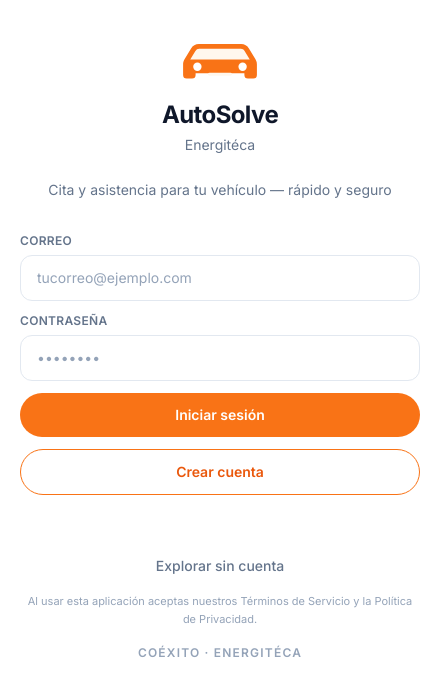
Scenario: LoginPage › muestra el mensaje de la API cuando las credenciales fallan
Type "camila@autosolve.co" into the field labelled "Correo" at (220, 278), box [20,255,420,301]
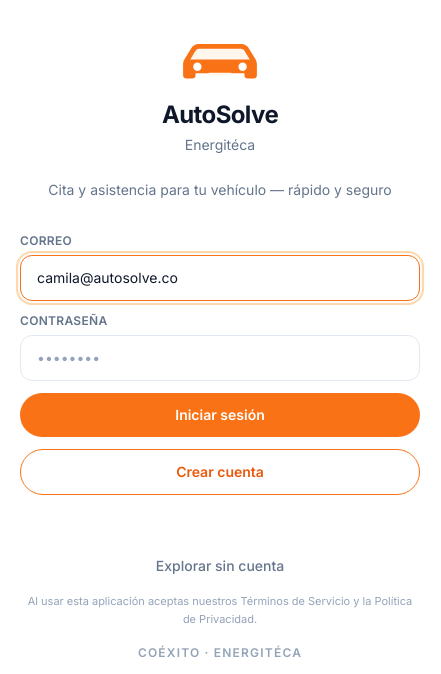
Type "mala" into the password field labelled "Contraseña" at (220, 358), box [20,335,420,381]
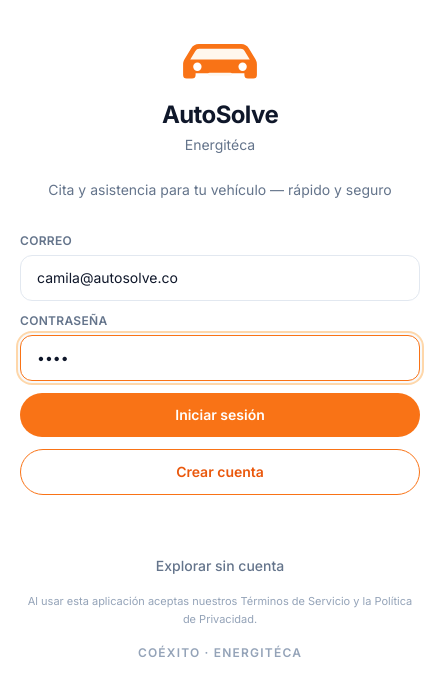
Click the button "Iniciar sesión" at (220, 415), box [20,393,420,437]
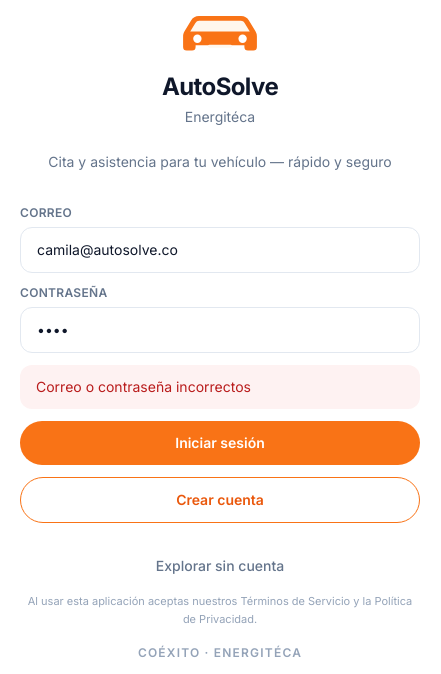
Result: the message reads "Correo o contraseña incorrectos" at [36,378,251,395]
